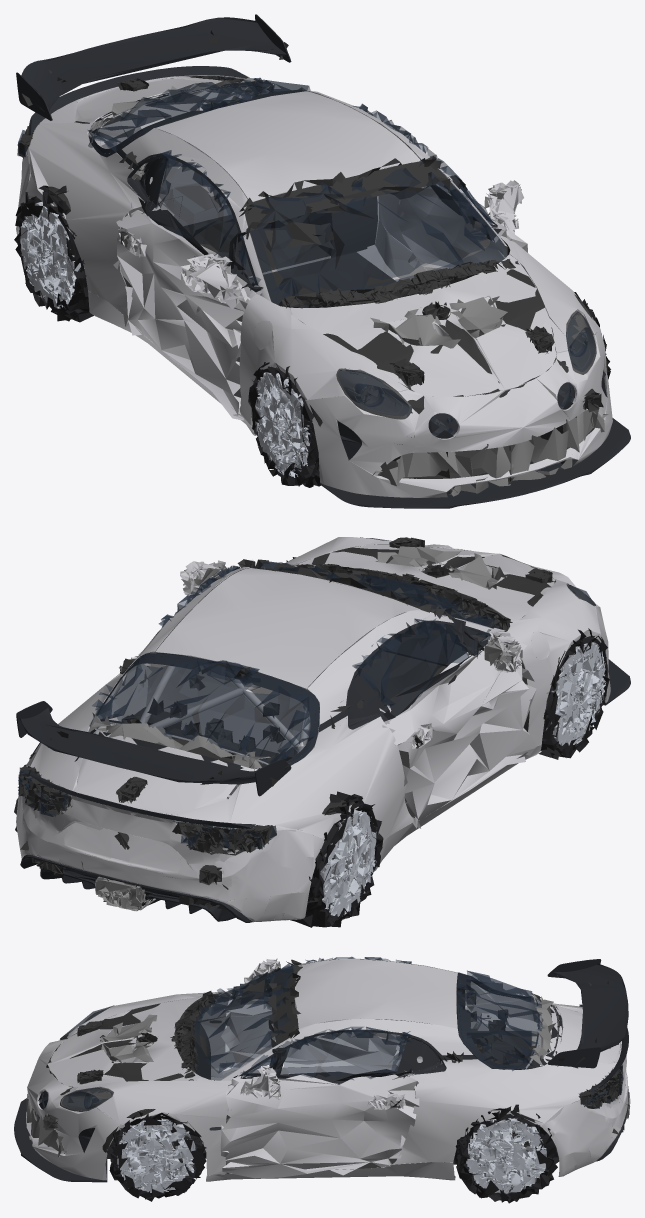
The model's file is alpine-a110-gt4.obj.
The picture shows the model from 3 angles, top to bottom: view 1: azimuth 30°, elevation 25°; view 2: azimuth 150°, elevation 25°; view 3: azimuth 270°, elevation 25°; orthographic projection. The views are drawn at different scales.
Visible parts, largest first — view 1: BODY, GLASS, WHEEL_RR, WHEEL_RF; view 2: BODY, GLASS, WHEEL_RR, WHEEL_RF; view 3: BODY, GLASS, WHEEL_LR, WHEEL_LF.
Part boxes in pixels (<box>): BODY: <box>16,14,630,508</box>; GLASS: <box>17,76,608,496</box>; WHEEL_RR: <box>14,185,93,322</box>; WHEEL_RF: <box>248,362,320,487</box>; BODY: <box>16,537,630,922</box>; GLASS: <box>17,538,595,852</box>; WHEEL_RR: <box>290,791,383,927</box>; WHEEL_RF: <box>523,628,609,759</box>; BODY: <box>14,958,630,1182</box>; GLASS: <box>26,956,623,1158</box>; WHEEL_LR: <box>454,1104,559,1203</box>; WHEEL_LF: <box>106,1111,206,1201</box>.
Size of the model in its own units: 2.02 by 1.26 by 4.25.
